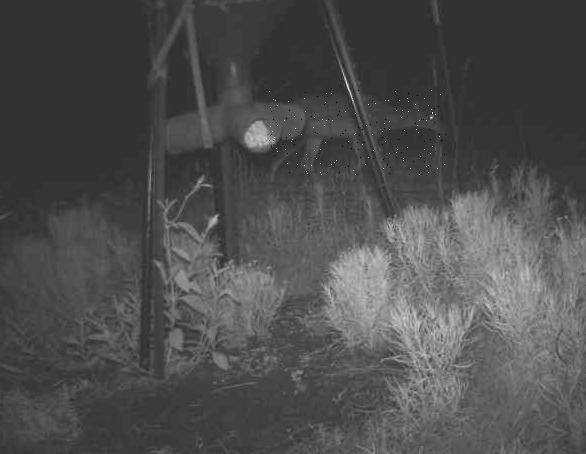Deer: (269, 91, 447, 177)
